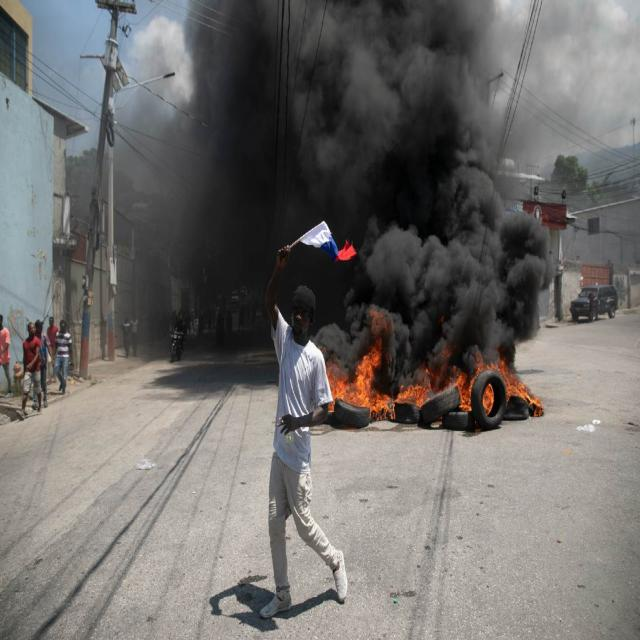fire: (357, 338, 395, 422), (505, 364, 543, 416), (326, 356, 357, 413)
